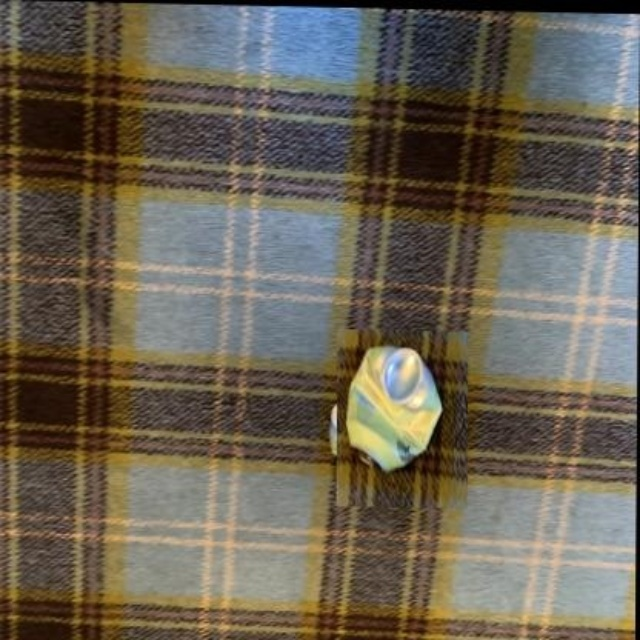trash: (346, 346, 440, 469)
